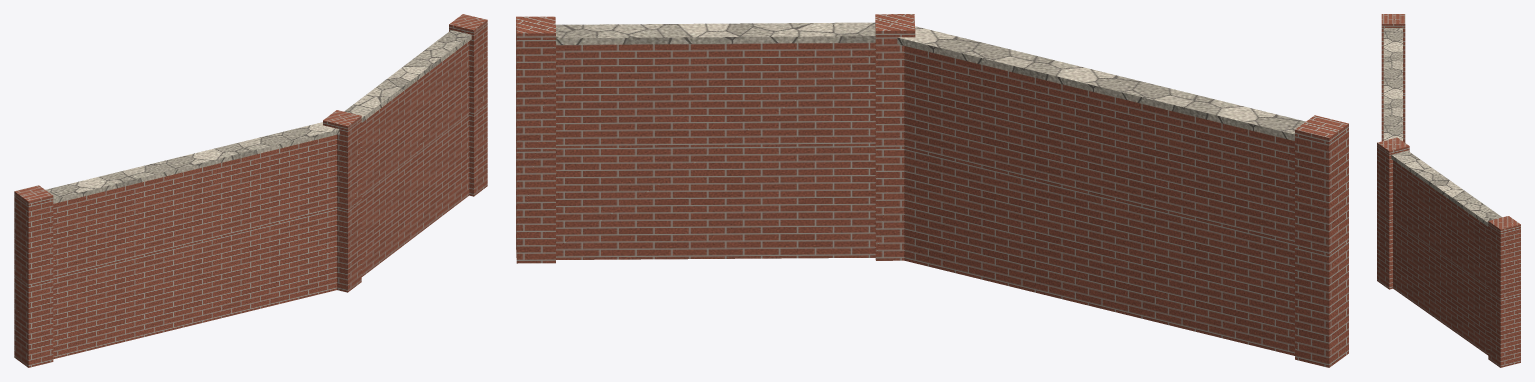
The picture shows the model from 3 angles, left to right: view 1: azimuth 30°, elevation 25°; view 2: azimuth 150°, elevation 25°; view 3: azimuth 270°, elevation 25°; orthographic projection. The views are drawn at different scales.
Parts seen in each view (by area): view 1: decorative.decorative_wall (×2); view 2: decorative.decorative_wall (×2); view 3: decorative.decorative_wall (×2).
Boxes of the visible parts, x1=… form: decorative.decorative_wall (×2): x1=14, y1=14, x2=487, y2=367; decorative.decorative_wall (×2): x1=516, y1=14, x2=1348, y2=367; decorative.decorative_wall (×2): x1=1377, y1=14, x2=1520, y2=367.
Bounding box in the file's own units: 6.88 × 1.94 × 2.06.
Materials: 2 (2 with a texture image).
